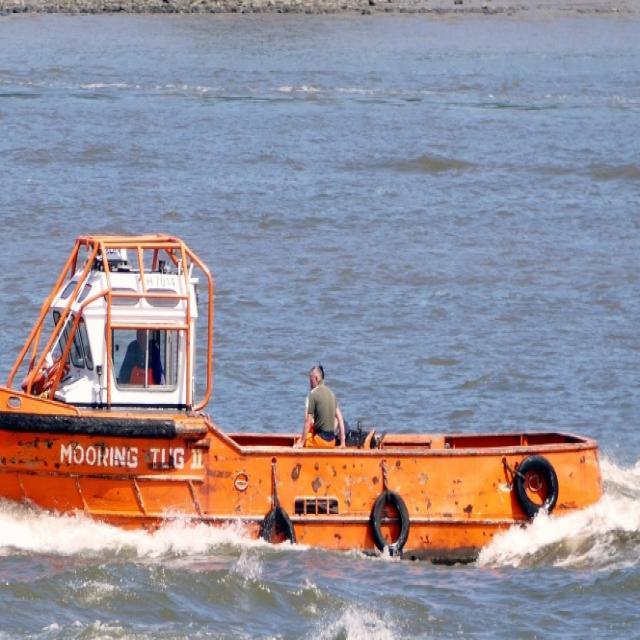tugboat: (1, 226, 612, 588)
